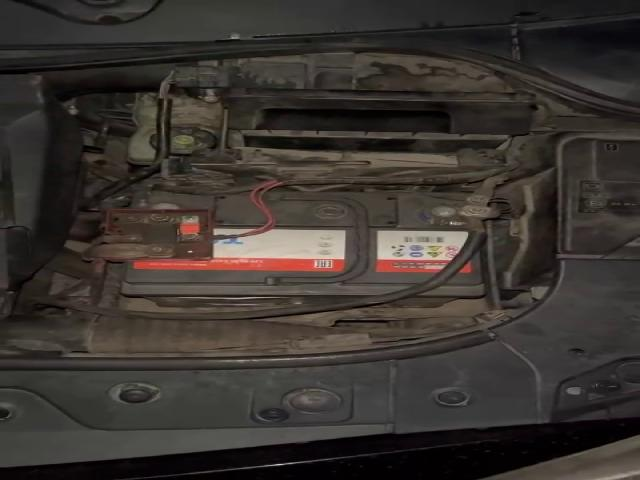accumulator: (92, 187, 495, 309)
fuse_box: (556, 132, 640, 258)
